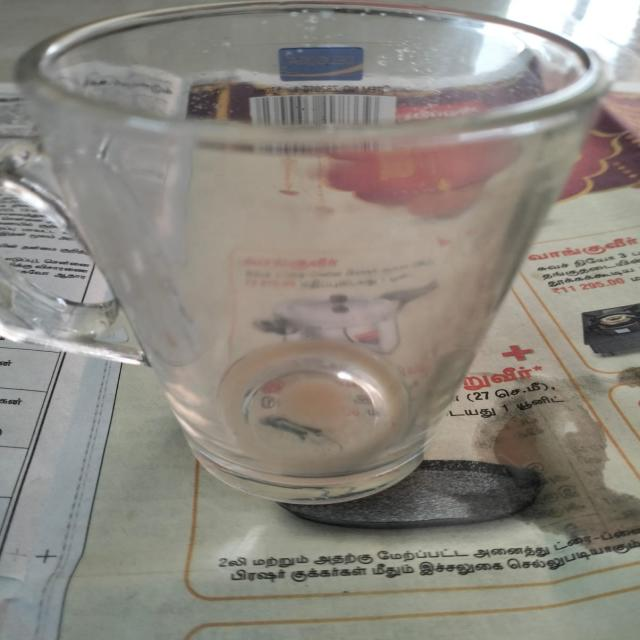glass-VX4N: (3, 0, 614, 511)
